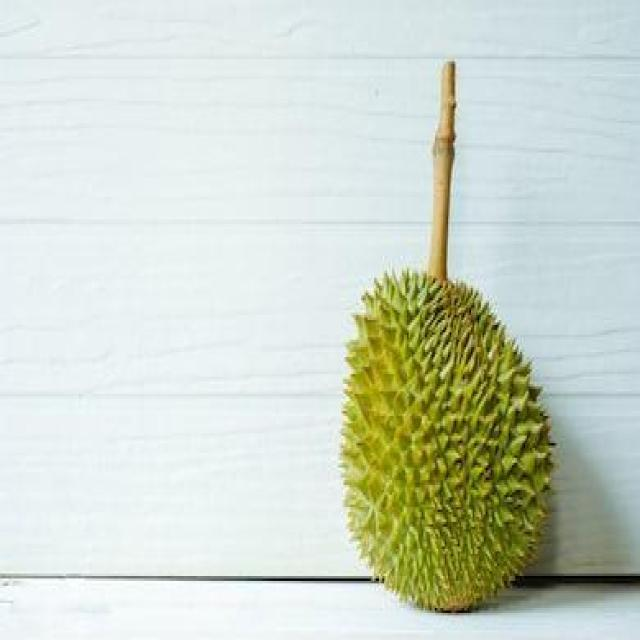immature: (336, 262, 556, 616)
